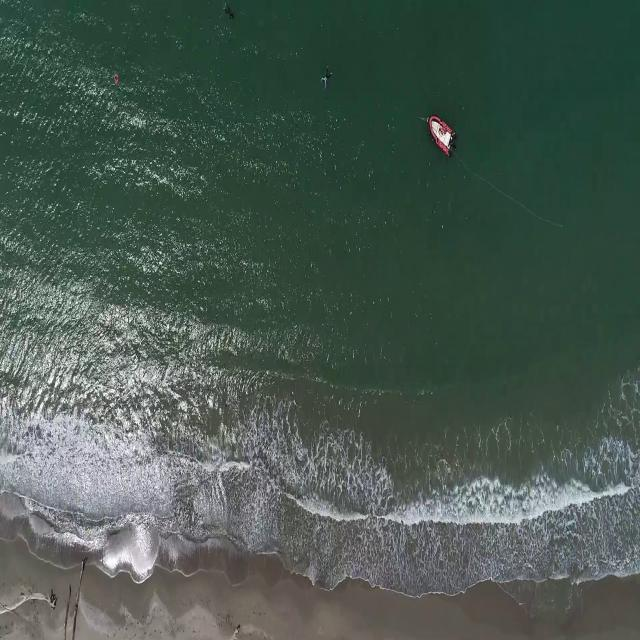boat: (429, 113, 456, 159)
life_buoy: (112, 73, 121, 85)
person: (320, 67, 333, 92), (224, 7, 238, 23)
wood: (64, 559, 86, 640), (0, 588, 61, 612)
